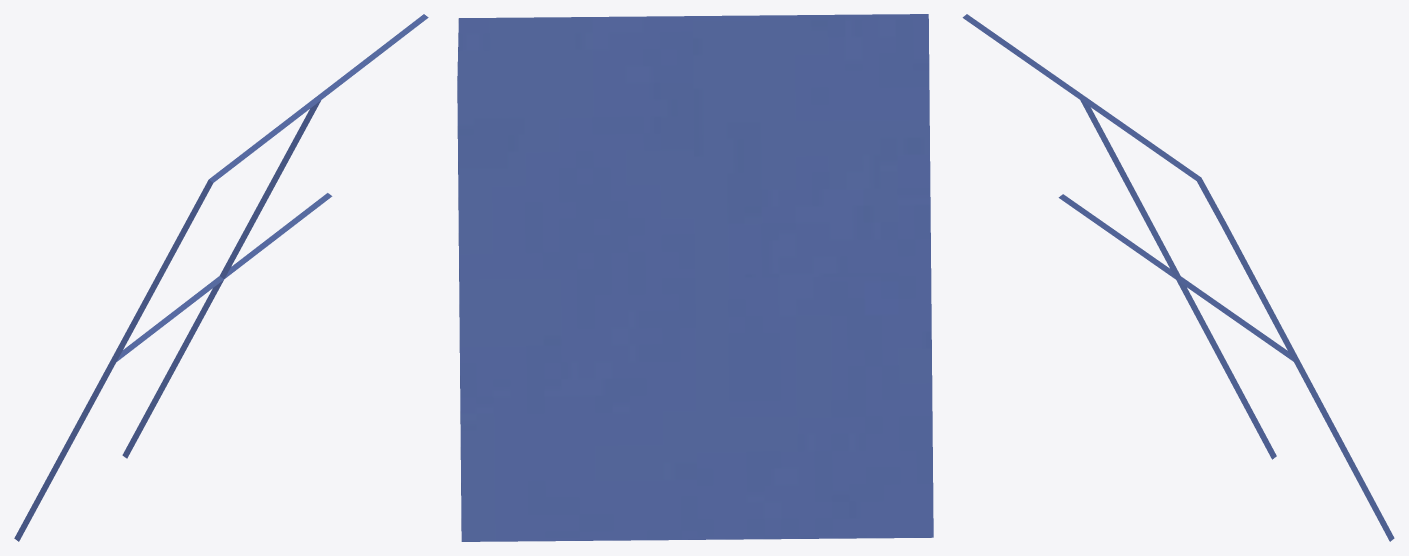
The picture shows the model from 3 angles, left to right: view 1: azimuth 30°, elevation 25°; view 2: azimuth 150°, elevation 25°; view 3: azimuth 270°, elevation 25°; orthographic projection. The views are drawn at different scales.
Bounding box in the file's own units: 19682 × 17661 × 16808.
Materials: 1 (1 with a texture image).
